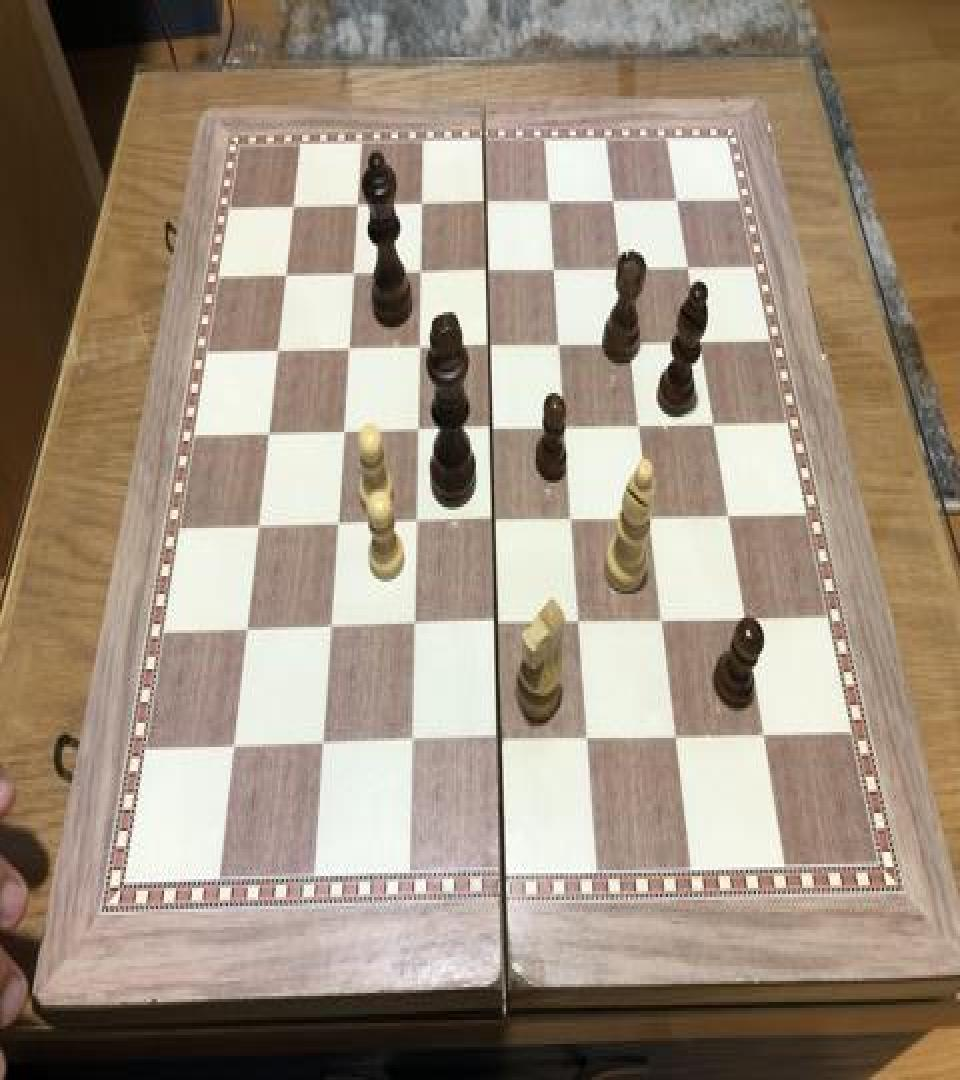xcorner: (733, 601, 757, 638), (319, 610, 343, 647), (664, 718, 688, 755), (223, 727, 247, 764), (666, 183, 690, 219), (602, 184, 626, 220), (538, 184, 562, 220), (474, 186, 498, 222), (345, 189, 369, 225), (281, 190, 305, 226), (676, 250, 700, 286), (610, 252, 634, 288), (543, 254, 567, 290), (475, 255, 499, 291), (408, 255, 432, 291), (341, 256, 365, 292), (274, 258, 298, 294), (688, 326, 712, 362), (618, 327, 642, 363), (407, 330, 431, 366), (336, 332, 360, 368), (266, 333, 290, 369), (702, 408, 726, 444), (628, 410, 652, 446), (554, 411, 578, 447), (405, 414, 429, 450), (331, 414, 355, 450), (257, 416, 281, 452), (717, 500, 741, 536), (638, 501, 662, 537), (560, 502, 584, 538), (482, 504, 506, 540), (404, 506, 428, 542), (325, 507, 349, 543), (247, 508, 271, 544), (650, 603, 674, 639), (568, 604, 592, 640), (485, 606, 509, 642), (402, 608, 426, 644), (236, 612, 260, 648), (752, 716, 776, 752), (576, 720, 600, 756), (488, 722, 512, 758), (400, 724, 424, 760), (311, 726, 335, 762), (410, 188, 434, 223), (548, 329, 572, 364), (477, 329, 501, 364), (480, 413, 504, 448)
